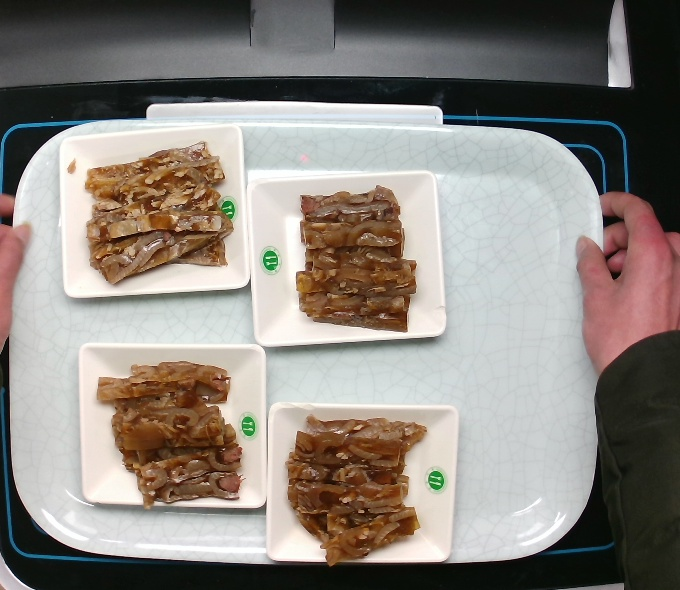wcq-DongZhuPi: (93, 353, 251, 510), (282, 413, 432, 571), (80, 139, 234, 280), (290, 184, 424, 332)
